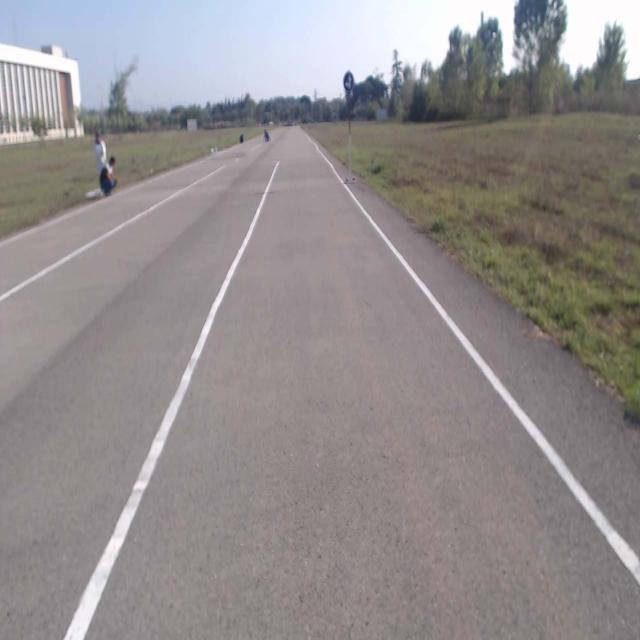ilerisol: (344, 71, 354, 92)
